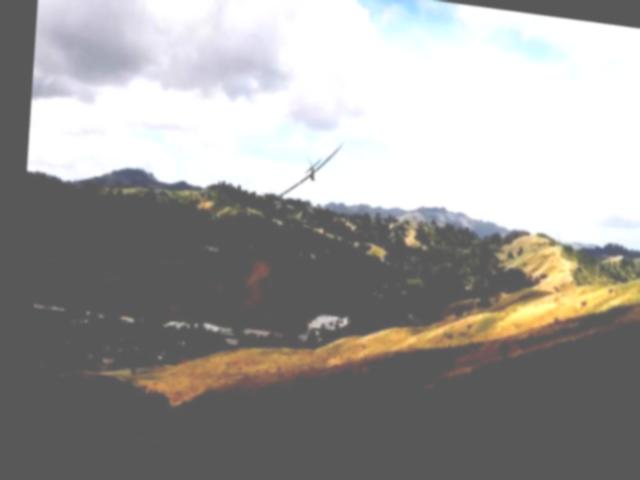iha: (257, 132, 346, 211)
